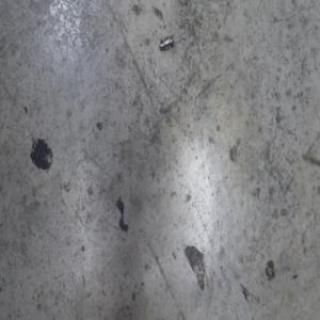Bolttrack_idkeyframe: (158, 31, 174, 50)
